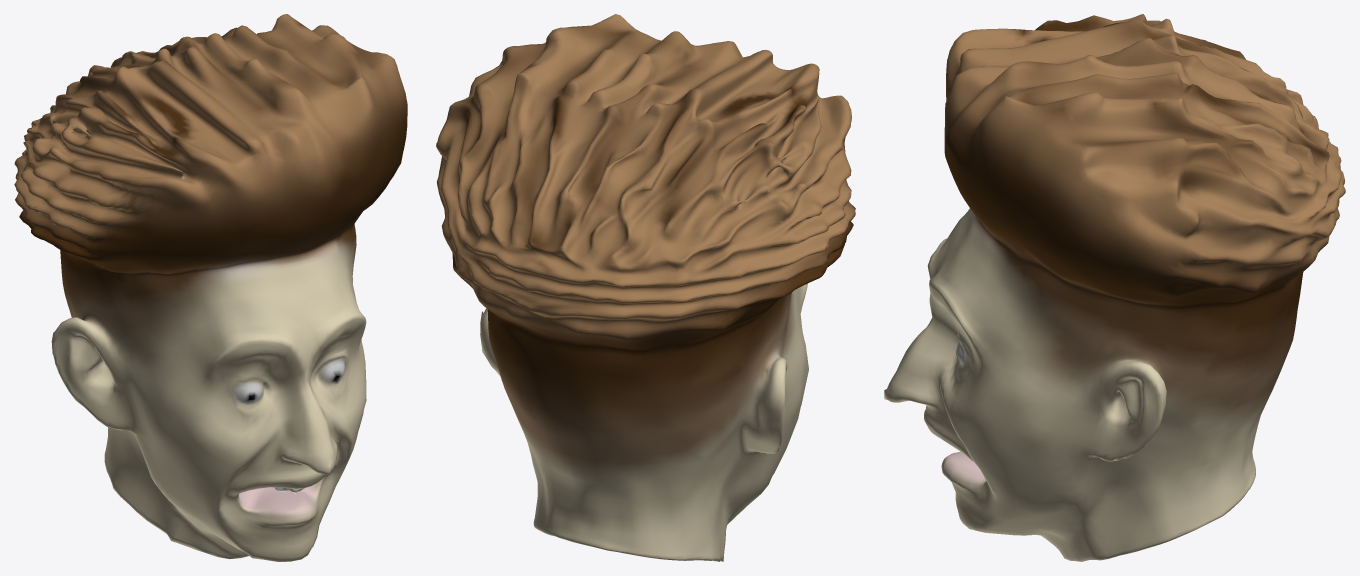
The model's file is LowTaperFade.glb.
3 views of the same model, side by side, from view 1: azimuth 30°, elevation 25°; view 2: azimuth 150°, elevation 25°; view 3: azimuth 270°, elevation 25° (orthographic). The views are drawn at different scales.
Visible parts, largest first — view 1: model; view 2: model; view 3: model.
Part boxes in pixels (bbox=[...]): model: bbox=[14, 14, 407, 561]; model: bbox=[436, 14, 855, 561]; model: bbox=[884, 14, 1345, 561].
Bounding box in the file's own units: 1.48 × 1.89 × 1.55.
